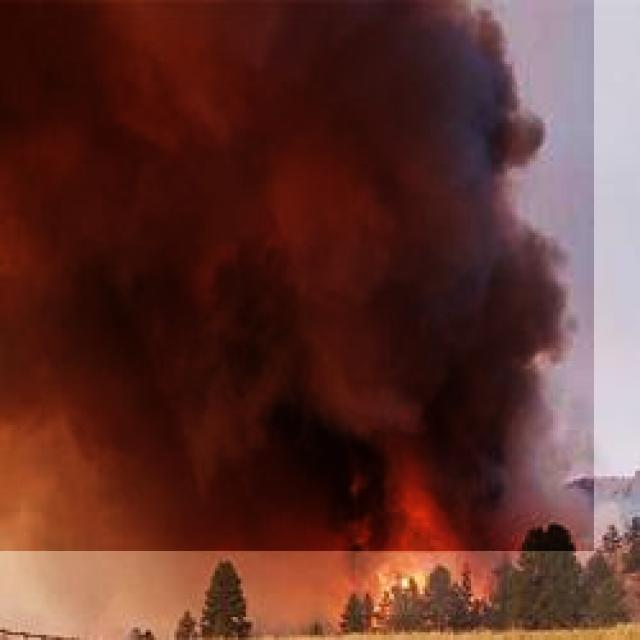Fire: (355, 553, 456, 615)
Smoke: (0, 0, 594, 551)
